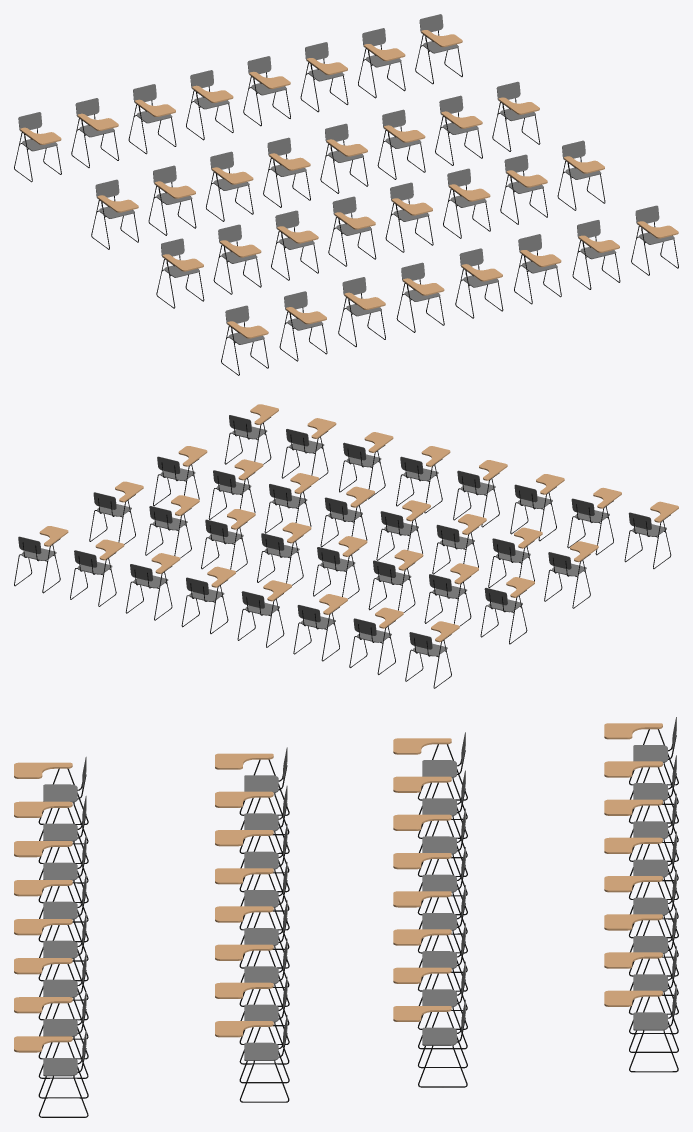
The model's file is Zoll_Base_Version3_Level_-1_IfcFurnishingElement.dae.
3 renders of one model, top to bottom at view 1: azimuth 30°, elevation 25°; view 2: azimuth 150°, elevation 25°; view 3: azimuth 270°, elevation 25°, orthographic. The views are drawn at different scales.
Visible parts, largest first — view 1: 1xlS7zt1b2sw5OjZCylghf, 1xlS7zt1b2sw5OjZCylgk$, 1xlS7zt1b2sw5OjZCylgkb, 08ElP9jJ16xBC0V5TD3PiG, 1xlS7zt1b2sw5OjZCylgkv, 1xlS7zt1b2sw5OjZCylgkn, 1xlS7zt1b2sw5OjZCylgkp, 1xlS7zt1b2sw5OjZCylgbi, 08ElP9jJ16xBC0V5TD3PiQ, 1xlS7zt1b2sw5OjZCylgle, 1xlS7zt1b2sw5OjZCylgdZ, 1xlS7zt1b2sw5OjZCylghn (+20 smaller); view 2: 08ElP9jJ16xBC0V5TD3PiG, 08ElP9jJ16xBC0V5TD3Pi0, 08ElP9jJ16xBC0V5TD3OJX, 08ElP9jJ16xBC0V5TD3PiQ, 1xlS7zt1b2sw5OjZCylgkv, 08ElP9jJ16xBC0V5TD3Pjc, 08ElP9jJ16xBC0V5TD3PiU, 08ElP9jJ16xBC0V5TD3PiO, 1xlS7zt1b2sw5OjZCylgle, 1xlS7zt1b2sw5OjZCylghn, 08ElP9jJ16xBC0V5TD3PiS, 1xlS7zt1b2sw5OjZCylghh (+20 smaller); view 3: 08ElP9jJ16xBC0V5TD3OJX, 1xlS7zt1b2sw5OjZCylgdZ, 1xlS7zt1b2sw5OjZCylgbi, 08ElP9jJ16xBC0V5TD3PnF, 1xlS7zt1b2sw5OjZCylghH, 1xlS7zt1b2sw5OjZCylgl1, 1xlS7zt1b2sw5OjZCylgkb, 08ElP9jJ16xBC0V5TD3Pi0, 1xlS7zt1b2sw5OjZCylghn, 1xlS7zt1b2sw5OjZCylght, 1xlS7zt1b2sw5OjZCylgkv, 1xlS7zt1b2sw5OjZCylghh (+20 smaller).
Part boxes in pixels (box(x1,y1,x2,y2)): 1xlS7zt1b2sw5OjZCylghf: box(455, 248, 503, 318); 1xlS7zt1b2sw5OjZCylgk$: box(213, 224, 261, 294); 1xlS7zt1b2sw5OjZCylgkb: box(500, 154, 547, 224); 08ElP9jJ16xBC0V5TD3PiG: box(300, 42, 348, 112); 1xlS7zt1b2sw5OjZCylgkv: box(156, 238, 204, 308); 1xlS7zt1b2sw5OjZCylgkn: box(385, 182, 433, 252); 1xlS7zt1b2sw5OjZCylgkp: box(328, 196, 376, 266); 1xlS7zt1b2sw5OjZCylgbi: box(557, 140, 605, 210); 08ElP9jJ16xBC0V5TD3PiQ: box(128, 84, 176, 154); 1xlS7zt1b2sw5OjZCylgle: box(91, 179, 138, 249); 1xlS7zt1b2sw5OjZCylgdZ: box(631, 205, 678, 275); 1xlS7zt1b2sw5OjZCylghn: box(221, 305, 268, 375); 08ElP9jJ16xBC0V5TD3PiG: box(125, 553, 180, 620); 08ElP9jJ16xBC0V5TD3Pi0: box(70, 539, 124, 606); 08ElP9jJ16xBC0V5TD3OJX: box(14, 526, 68, 593); 08ElP9jJ16xBC0V5TD3PiQ: box(293, 594, 347, 661); 1xlS7zt1b2sw5OjZCylgkv: box(544, 541, 598, 608); 08ElP9jJ16xBC0V5TD3Pjc: box(405, 621, 459, 688); 08ElP9jJ16xBC0V5TD3PiU: box(181, 566, 235, 633); 08ElP9jJ16xBC0V5TD3PiO: box(349, 607, 403, 674); 1xlS7zt1b2sw5OjZCylgle: box(480, 577, 534, 644); 1xlS7zt1b2sw5OjZCylghn: box(624, 501, 678, 568); 08ElP9jJ16xBC0V5TD3PiS: box(237, 580, 291, 647); 1xlS7zt1b2sw5OjZCylghh: box(453, 460, 507, 527); 08ElP9jJ16xBC0V5TD3OJX: box(604, 984, 678, 1072); 1xlS7zt1b2sw5OjZCylgdZ: box(14, 1030, 88, 1117); 1xlS7zt1b2sw5OjZCylgbi: box(215, 1015, 289, 1102); 08ElP9jJ16xBC0V5TD3PnF: box(393, 999, 467, 1087); 1xlS7zt1b2sw5OjZCylghH: box(14, 991, 88, 1078); 1xlS7zt1b2sw5OjZCylgl1: box(393, 961, 467, 1049); 1xlS7zt1b2sw5OjZCylgkb: box(215, 976, 289, 1064); 08ElP9jJ16xBC0V5TD3Pi0: box(604, 946, 678, 1034); 1xlS7zt1b2sw5OjZCylghn: box(14, 756, 88, 844); 1xlS7zt1b2sw5OjZCylght: box(14, 795, 88, 883); 1xlS7zt1b2sw5OjZCylgkv: box(215, 747, 289, 835); 1xlS7zt1b2sw5OjZCylghh: box(14, 874, 88, 961).
Bounding box in the file's own units: 6.91 × 6.62 × 1.28.
